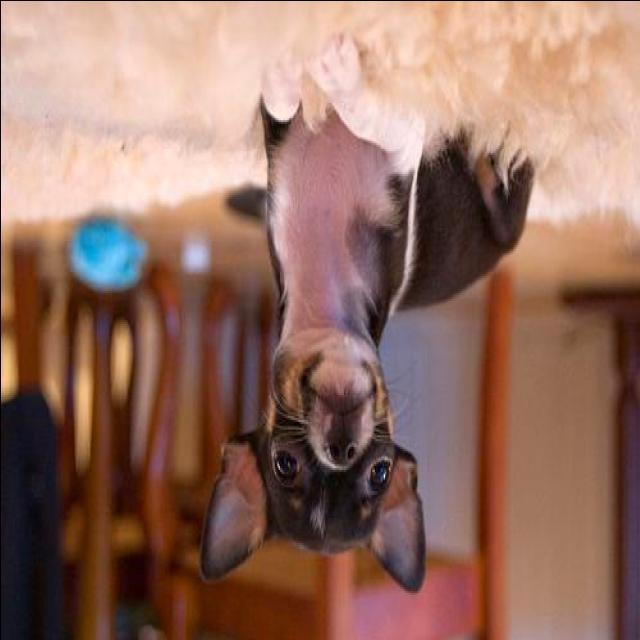chihuahua: (198, 33, 534, 594)
